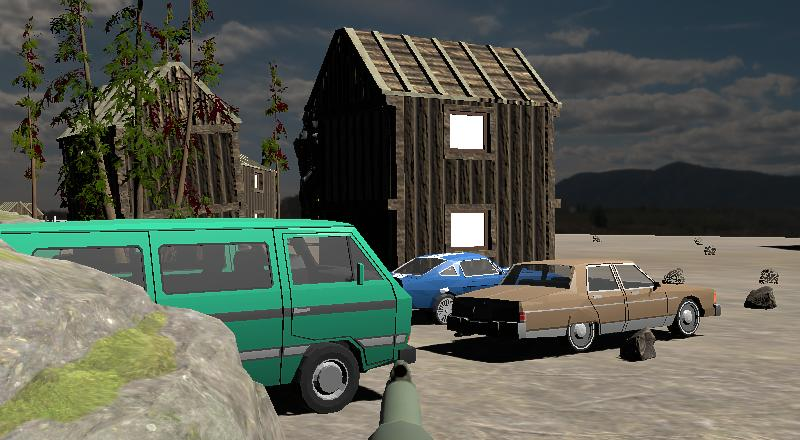House: (297, 26, 562, 322), (236, 153, 282, 217)
car: (5, 219, 414, 410), (444, 255, 721, 352), (391, 248, 514, 323)
